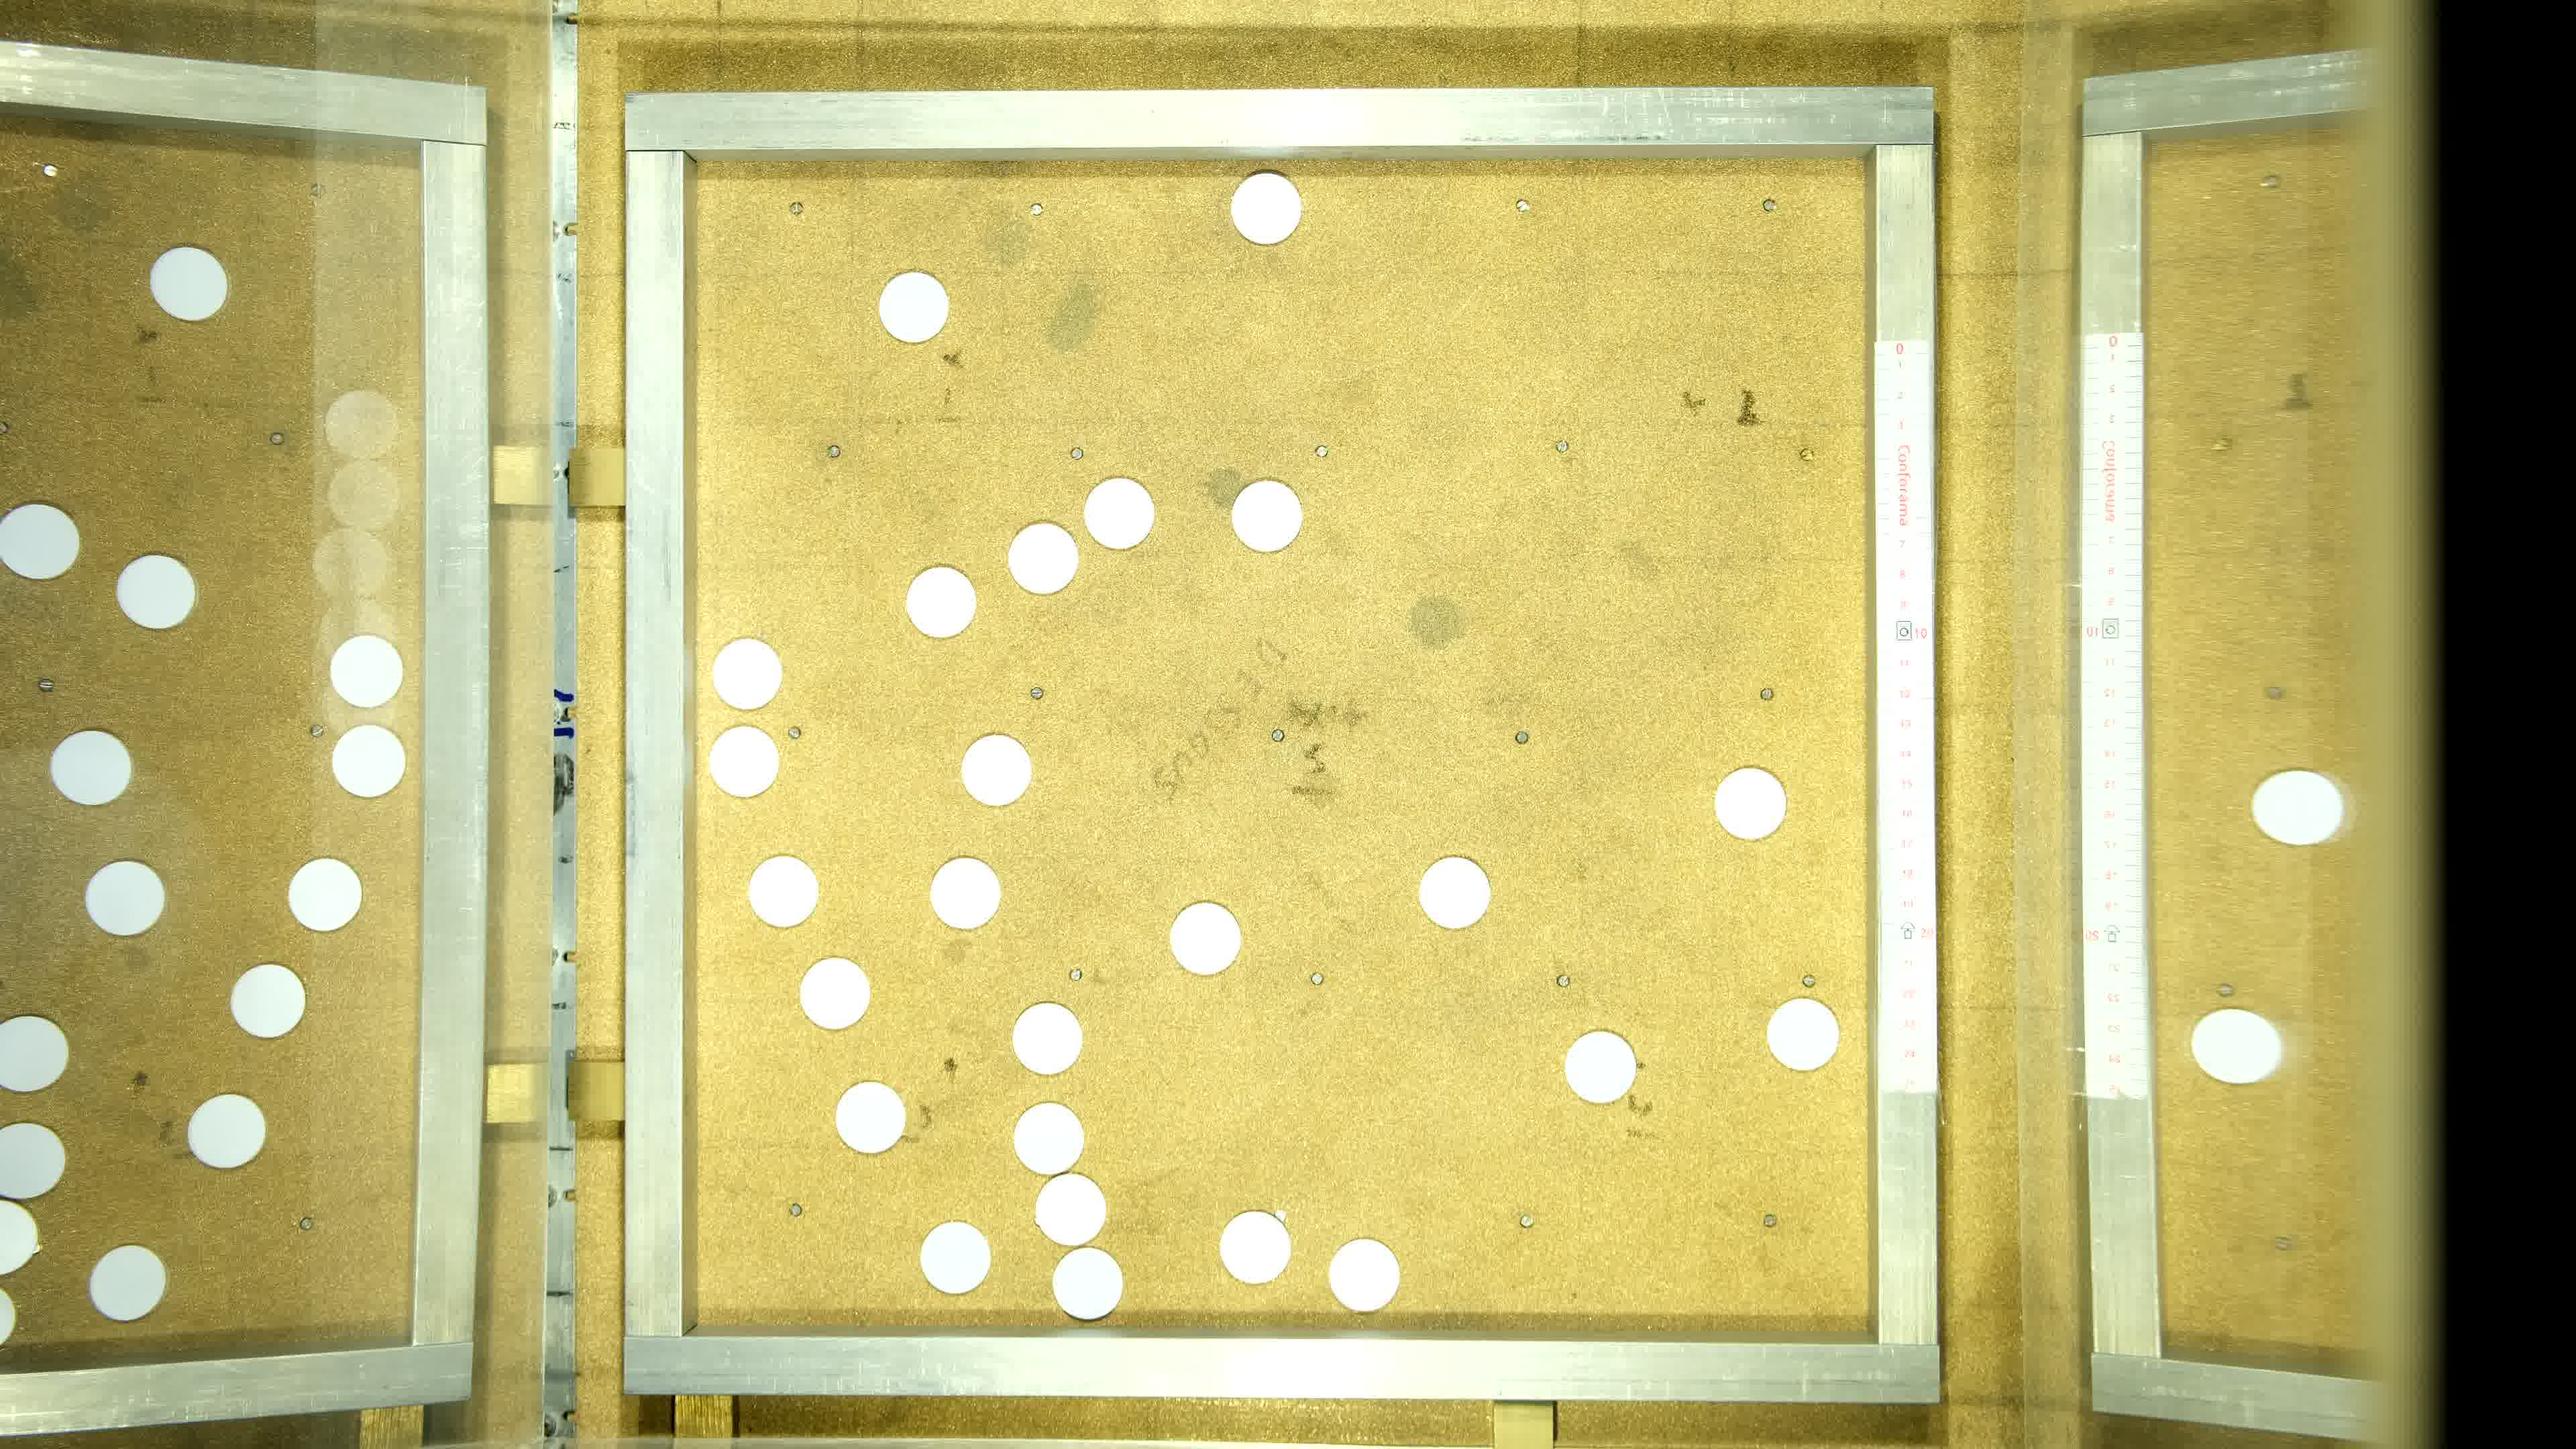pallet: (1085, 474, 1157, 548), (932, 855, 1005, 929), (1766, 998, 1838, 1072), (1219, 1210, 1292, 1284), (878, 269, 950, 343), (1419, 856, 1491, 929), (906, 564, 978, 637), (709, 637, 782, 709), (708, 724, 780, 796), (961, 734, 1033, 807), (920, 1221, 993, 1293), (1035, 1173, 1108, 1246), (833, 1079, 906, 1152), (1012, 1001, 1085, 1074), (1716, 766, 1787, 840), (1233, 478, 1304, 552), (1010, 520, 1081, 594), (1053, 1244, 1123, 1318), (1014, 1099, 1085, 1173), (1169, 902, 1240, 975), (748, 855, 819, 927), (801, 957, 872, 1030), (1564, 1030, 1635, 1102), (1329, 1238, 1399, 1311), (1231, 172, 1302, 244)
